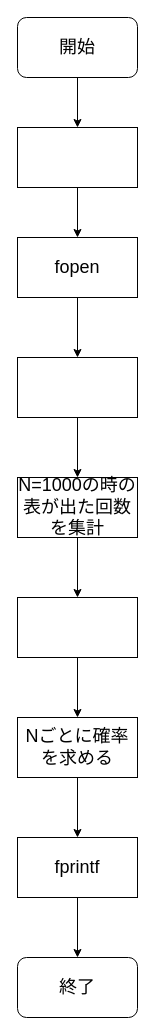
The diagram is 155 pixels wide and 1035 high, and some of its shapes have lost their labels. Each missing label, with the centre of its shape:
"N=100000の時の表が出た回数を集計" belongs at point 77,627.
"N=10の時の表が出た回数を集計" belongs at point 77,387.
"初期化" belongs at point 77,157.
